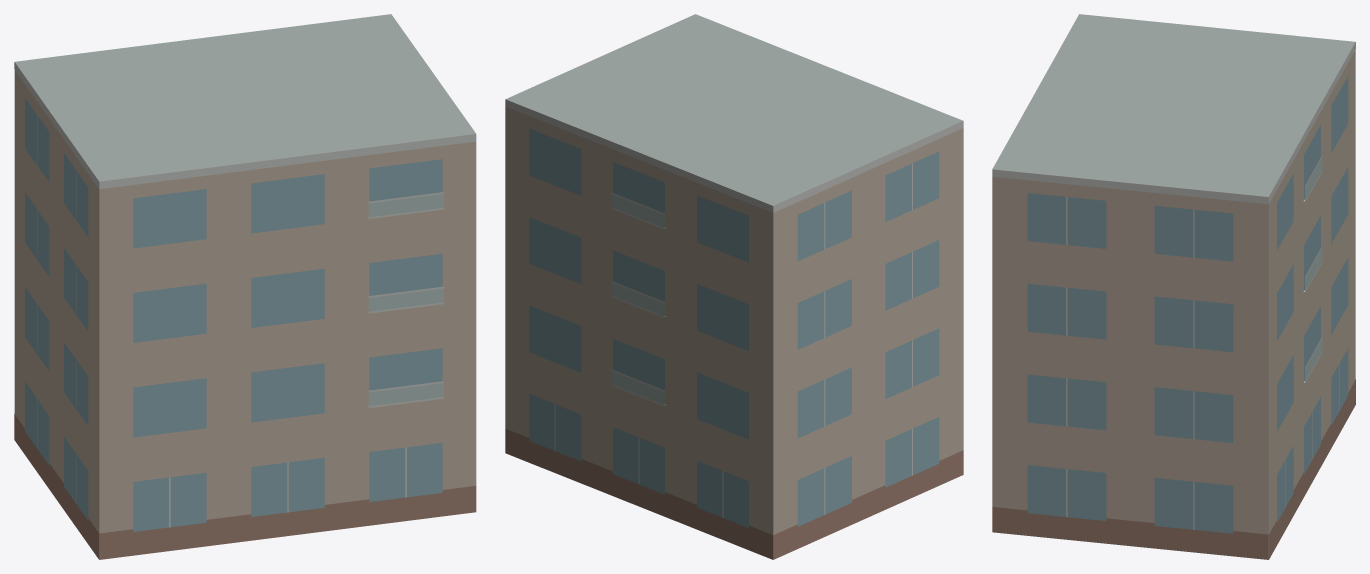
File: residential-a5ed9561-e314-4150-afff-5a067aa12847.glb
3 renders of one model, left to right at view 1: azimuth 30°, elevation 25°; view 2: azimuth 150°, elevation 25°; view 3: azimuth 270°, elevation 25°, orthographic. The views are drawn at different scales.
Visible parts, largest first — view 1: residential-a5ed9561-e314-4150-afff-5a067aa12847.tmp; view 2: residential-a5ed9561-e314-4150-afff-5a067aa12847.tmp; view 3: residential-a5ed9561-e314-4150-afff-5a067aa12847.tmp.
Boxes of the visible parts, bbox=[...] form: residential-a5ed9561-e314-4150-afff-5a067aa12847.tmp: bbox=[14, 14, 476, 559]; residential-a5ed9561-e314-4150-afff-5a067aa12847.tmp: bbox=[505, 14, 963, 559]; residential-a5ed9561-e314-4150-afff-5a067aa12847.tmp: bbox=[992, 14, 1355, 559].
Bounding box in the file's own units: 13.21 × 12.2 × 11.09.
